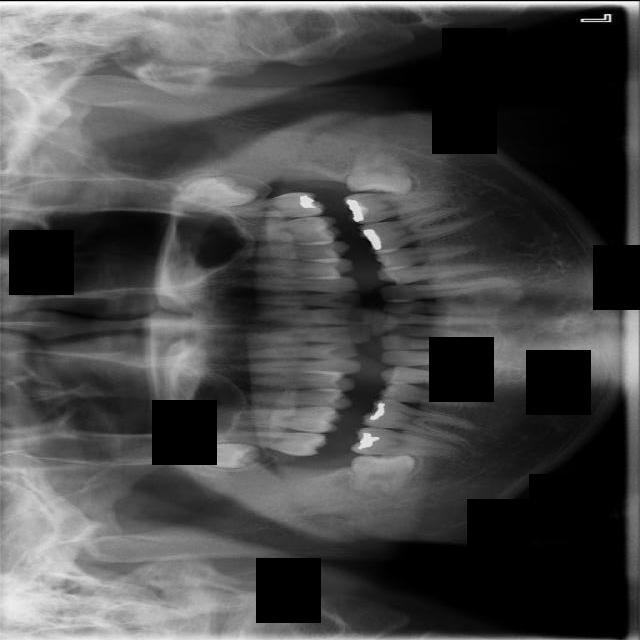3M ESPE Implant: (166, 441, 261, 469)
52: (341, 185, 394, 229), (357, 216, 413, 255), (349, 421, 399, 462), (361, 397, 414, 429), (275, 191, 328, 218)
73: (576, 46, 590, 56)
BioHorizons Implant: (199, 190, 327, 221)
BioLife Implant: (160, 169, 258, 218)
Biomet 3i Implant: (345, 141, 414, 195)
Blue Sky Bio Implant: (342, 177, 458, 226)
Caries: (209, 429, 329, 456)
Implant: (349, 425, 462, 458)
Keystone Dental Implant: (350, 453, 417, 496)
